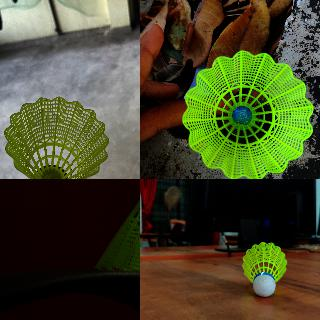shuttlecock: (180, 53, 313, 178), (4, 96, 108, 178), (94, 179, 139, 287), (241, 242, 287, 296)
